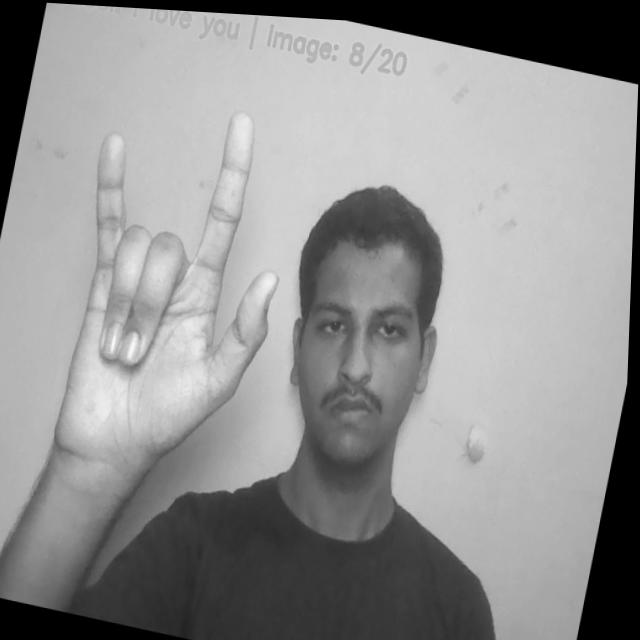I love you: (43, 82, 310, 488)
